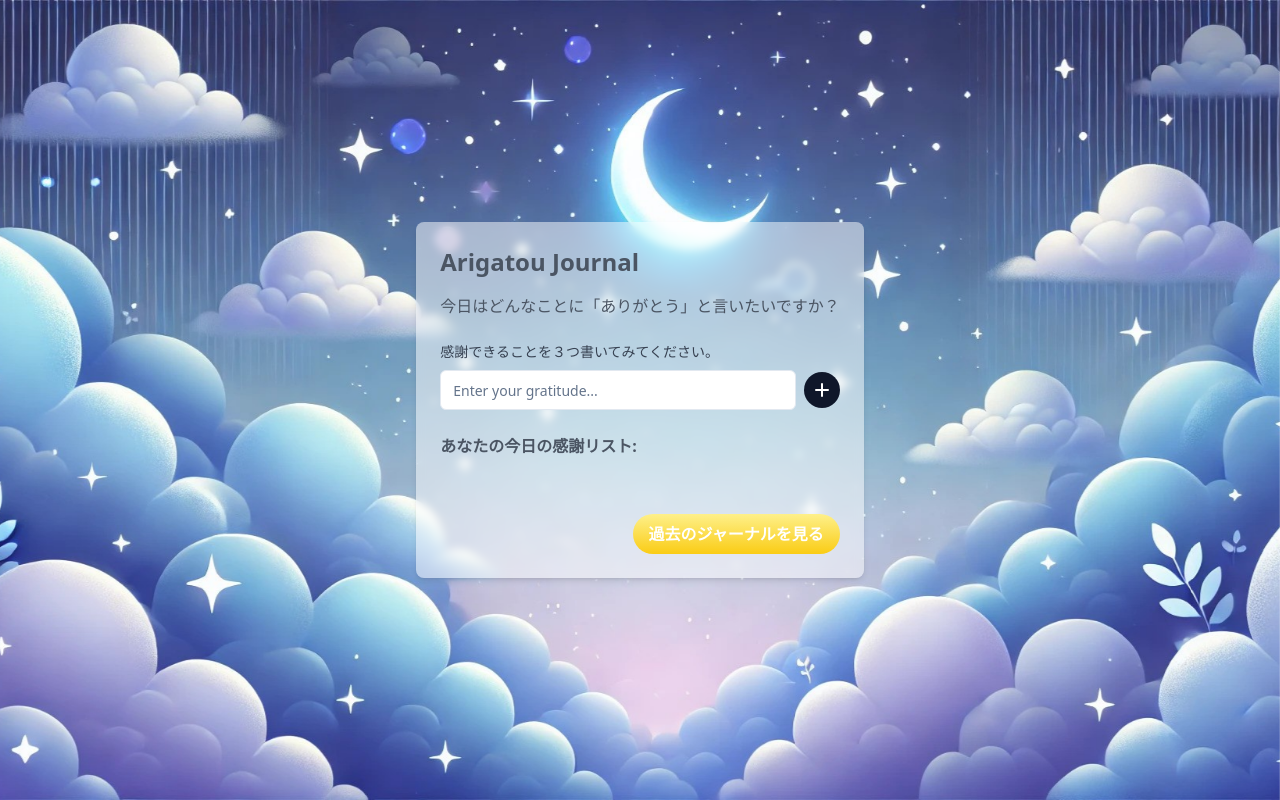
Test: JournalPage › 3つのジャーナルエントリー入力後にSubmitボタンが表示される
Type "Entry 1" into the field with test id "input".
click(618, 390); type("Entry 1")  # box [440, 370, 796, 410]
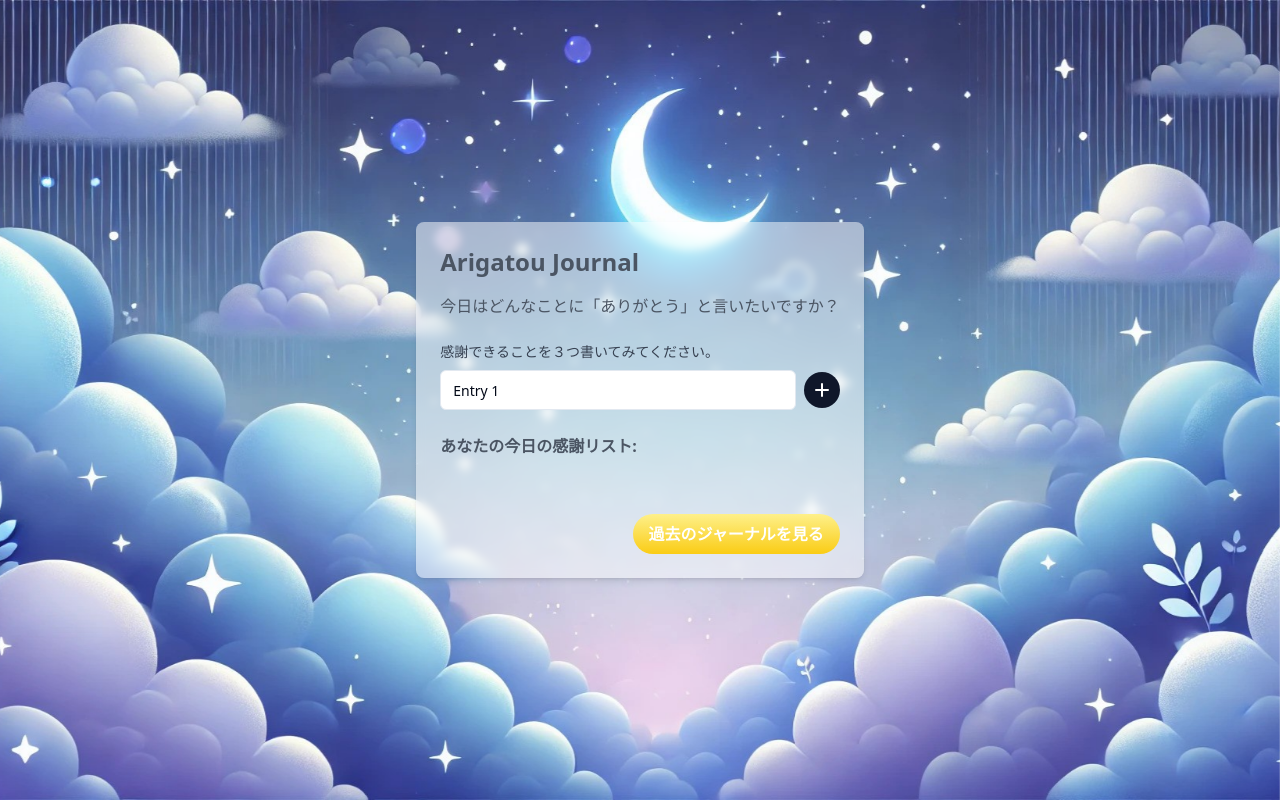
Click the button with test id "add-button".
click(822, 390)  # box [804, 372, 840, 408]
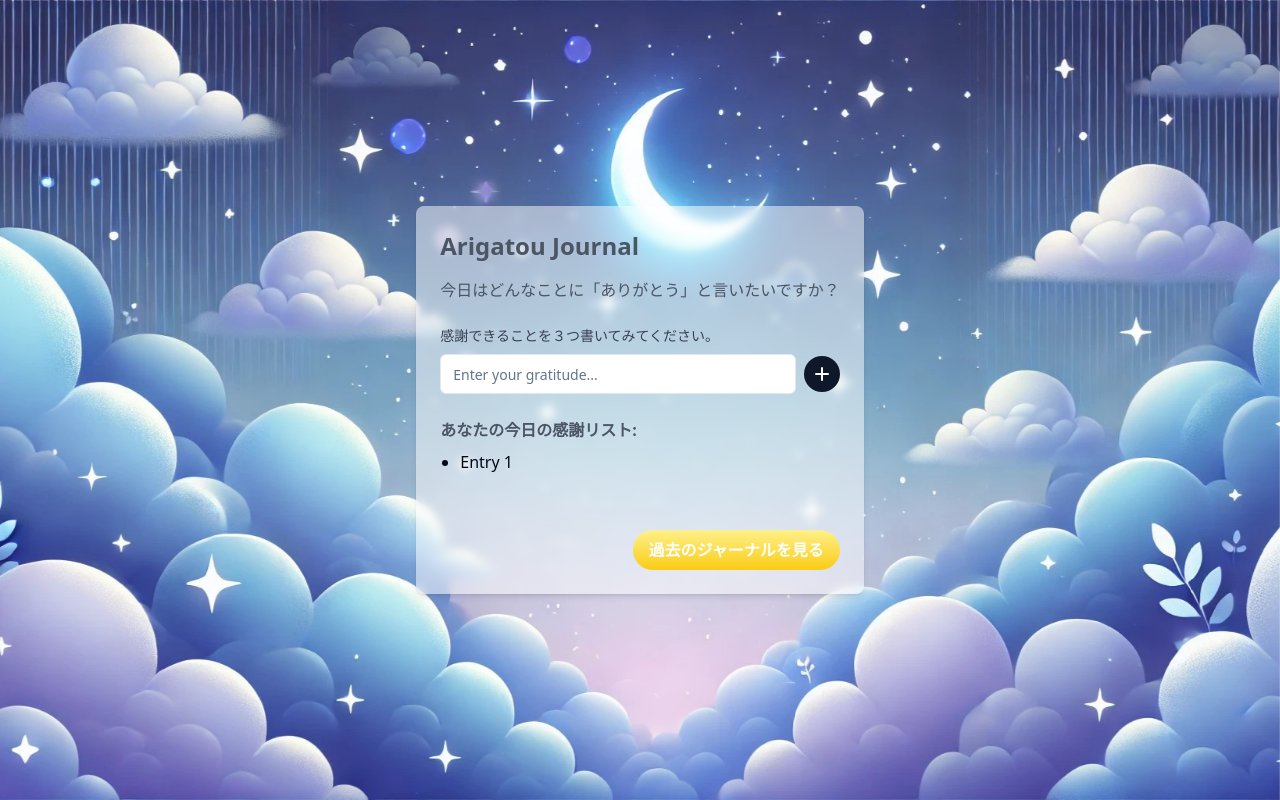
Type "Entry 2" into the field with test id "input".
click(618, 374); type("Entry 2")  # box [440, 354, 796, 394]
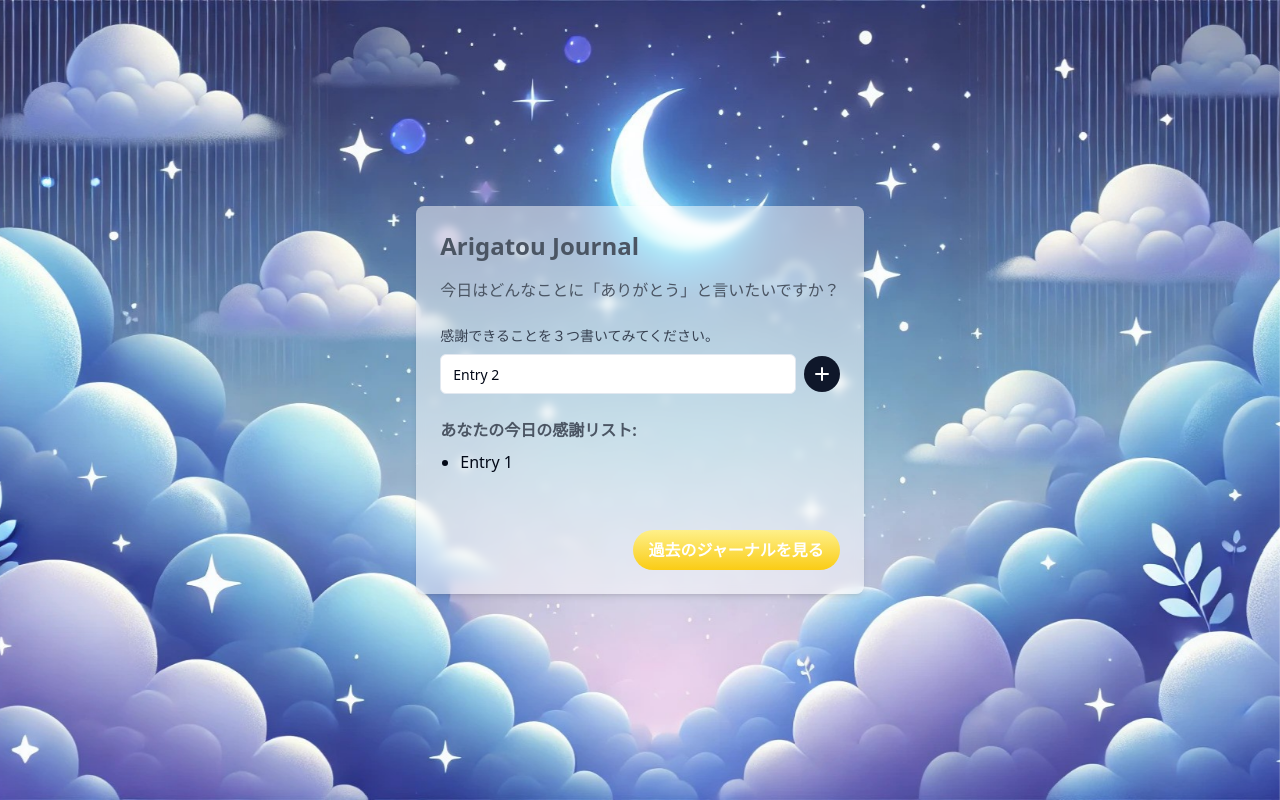
Click the button with test id "add-button".
click(822, 374)  # box [804, 356, 840, 392]
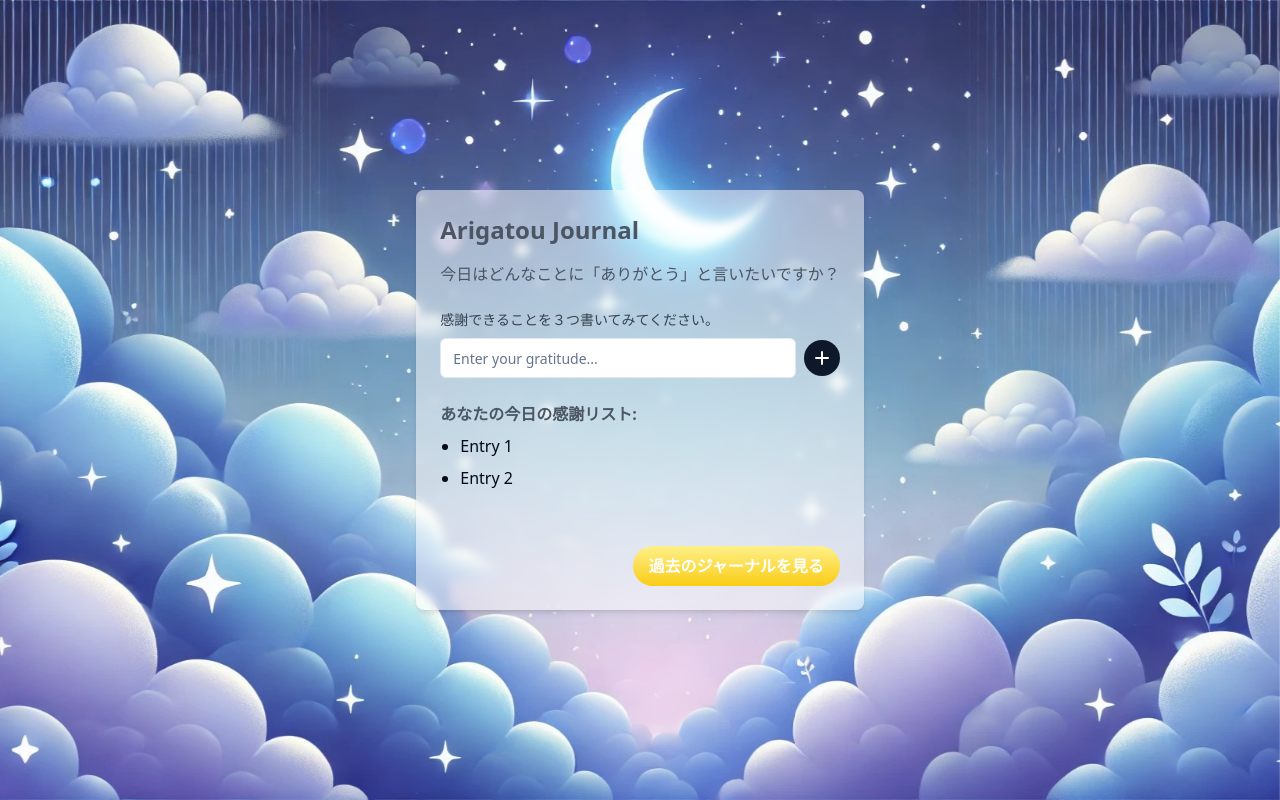
Type "Entry 3" into the field with test id "input".
click(618, 358); type("Entry 3")  # box [440, 338, 796, 378]
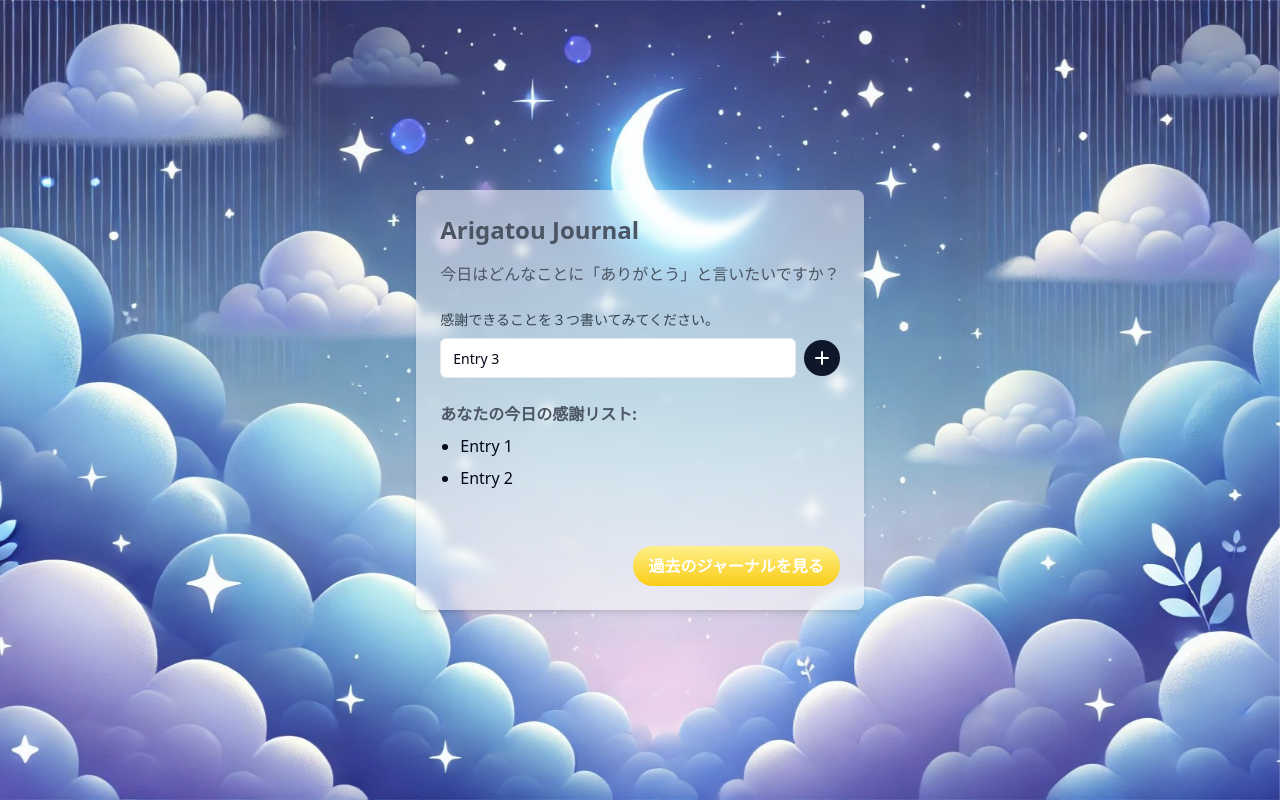
Click the button with test id "add-button".
click(822, 358)  # box [804, 340, 840, 376]
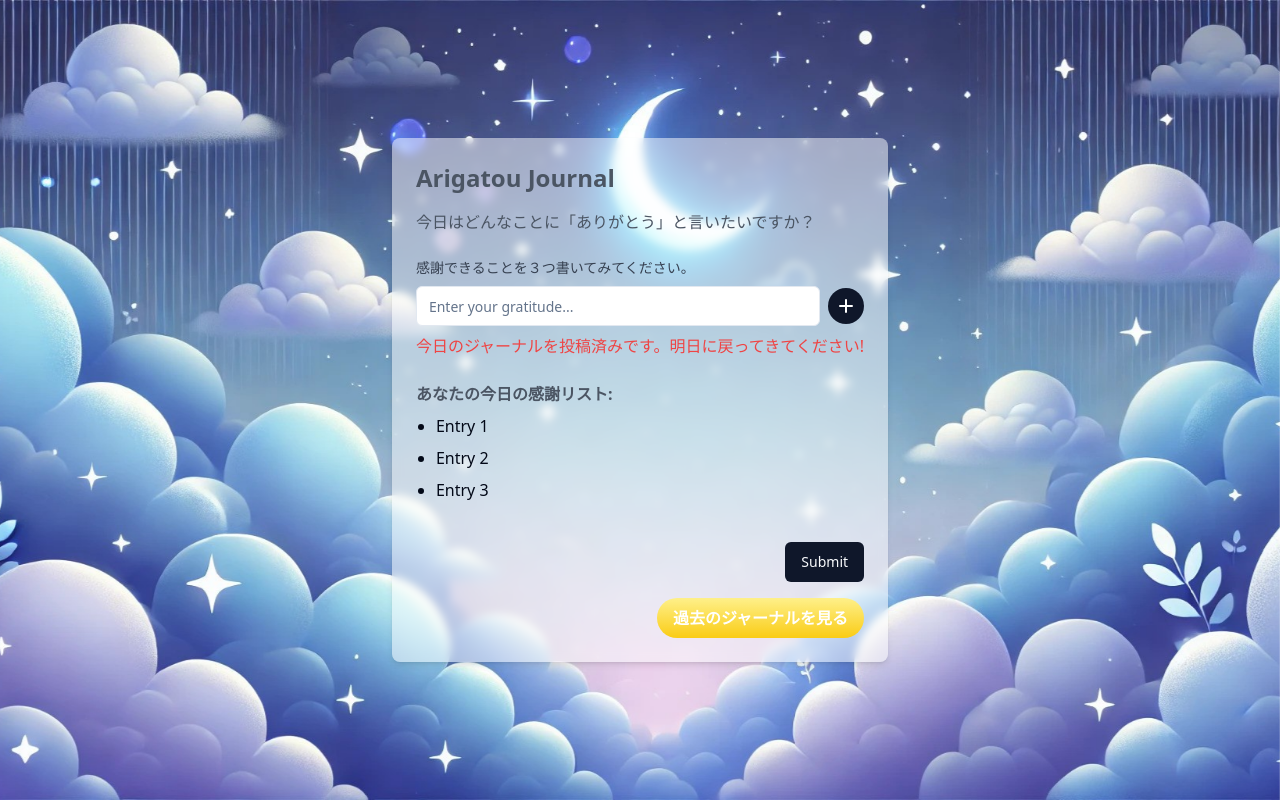
Now the button "Submit" is shown, box [785, 542, 864, 582]
